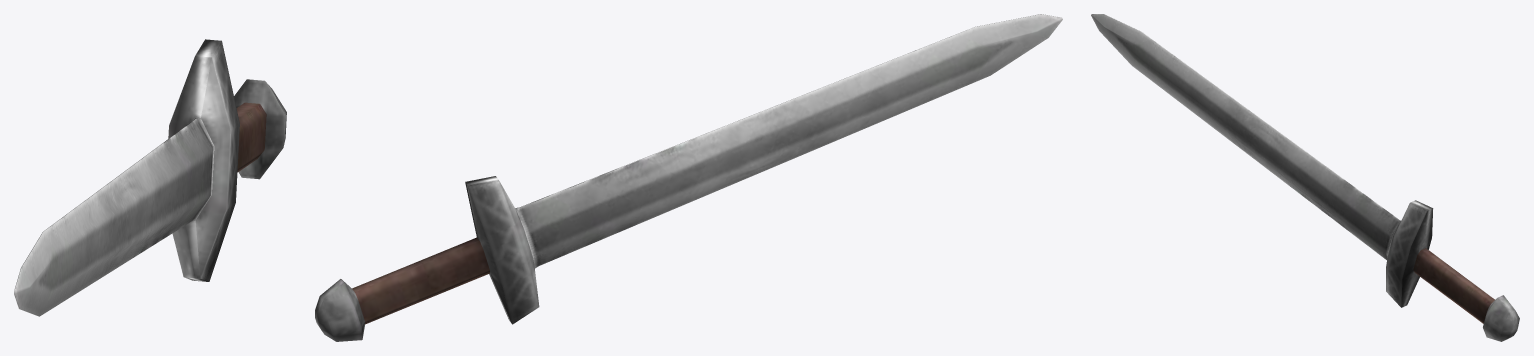
Rendered from rider-weapon-slice-base.glb.
The picture shows the model from 3 angles, left to right: view 1: azimuth 30°, elevation 25°; view 2: azimuth 150°, elevation 25°; view 3: azimuth 270°, elevation 25°; orthographic projection. The views are drawn at different scales.
Bounding box in the file's own units: 0.5975 × 0.2924 × 0.648.
Materials: 1 (1 with a texture image).
